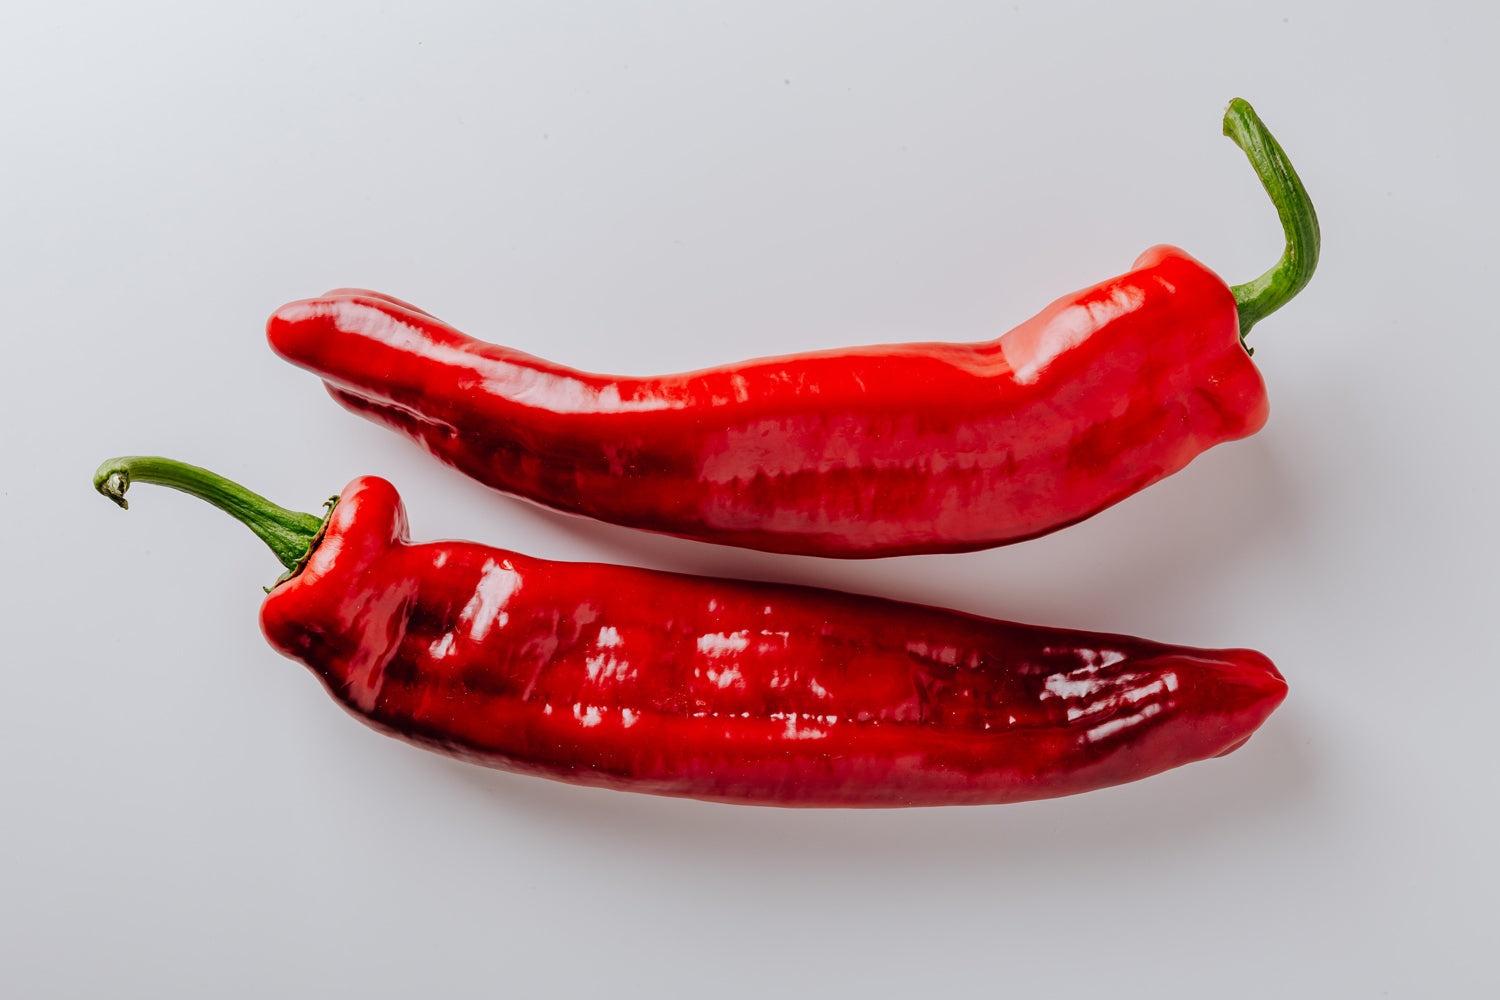Cabai: (203, 456, 1349, 875)
